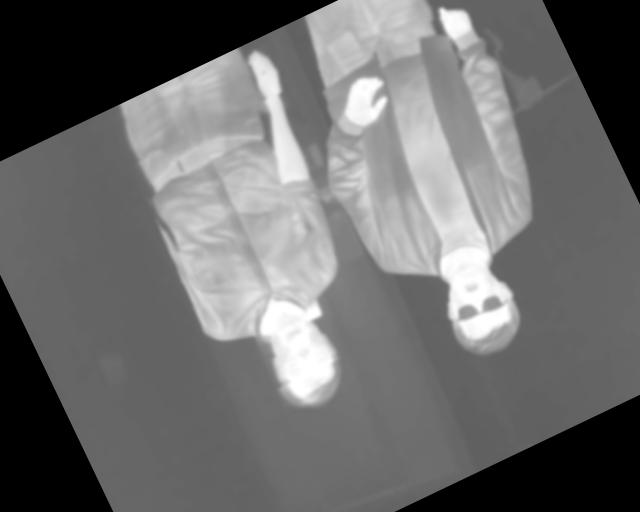face: (427, 247, 535, 367), (251, 300, 356, 418)
